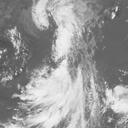cyclone: (31, 6, 89, 108)
